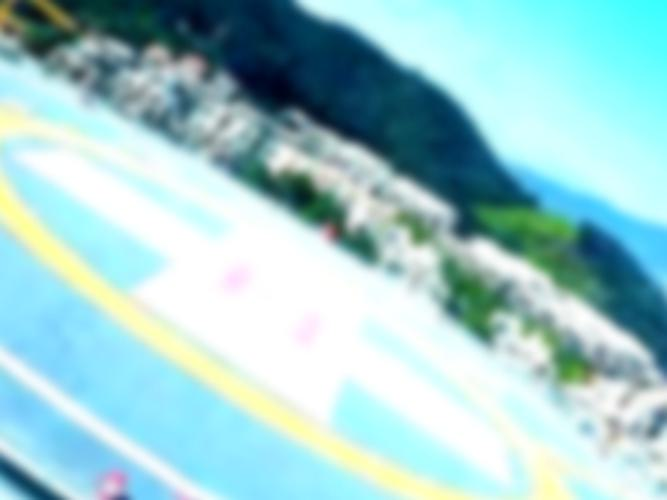Apron: (1, 92, 571, 500)
